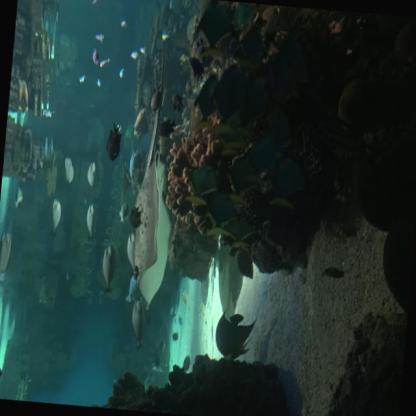fish: (210, 306, 259, 365), (265, 147, 310, 211), (209, 59, 250, 128), (192, 0, 238, 61), (236, 66, 270, 132), (240, 135, 283, 187), (202, 186, 241, 242), (224, 152, 258, 207), (262, 103, 296, 156), (184, 160, 219, 206), (328, 152, 356, 206), (191, 72, 219, 124), (222, 210, 256, 248), (126, 296, 148, 348), (99, 242, 119, 292), (234, 245, 258, 281), (0, 230, 14, 288), (104, 123, 124, 162), (83, 200, 99, 240), (124, 231, 140, 270), (131, 104, 149, 138), (127, 148, 142, 187), (186, 53, 206, 82), (49, 198, 64, 235), (61, 154, 77, 187), (125, 268, 140, 302), (158, 118, 178, 140), (321, 263, 345, 281), (85, 159, 99, 189), (128, 204, 144, 230), (149, 81, 162, 109), (117, 200, 130, 226), (14, 183, 26, 211), (151, 353, 165, 374), (170, 91, 184, 111), (181, 354, 191, 375), (180, 284, 190, 304), (91, 46, 100, 66), (197, 301, 206, 320), (94, 31, 107, 44), (99, 56, 111, 69), (157, 338, 166, 354), (78, 74, 88, 86), (119, 18, 128, 29), (130, 49, 139, 60), (177, 314, 184, 328), (173, 301, 179, 317), (118, 67, 125, 80), (168, 304, 174, 316), (92, 0, 103, 6), (96, 76, 102, 87), (139, 46, 145, 55), (381, 346, 382, 346)
stingray: (125, 149, 165, 284)
